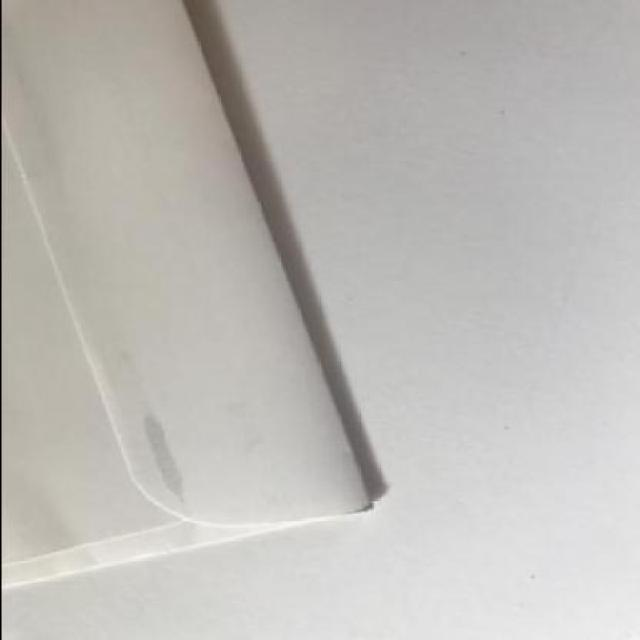PAPER: (1, 1, 374, 594)
